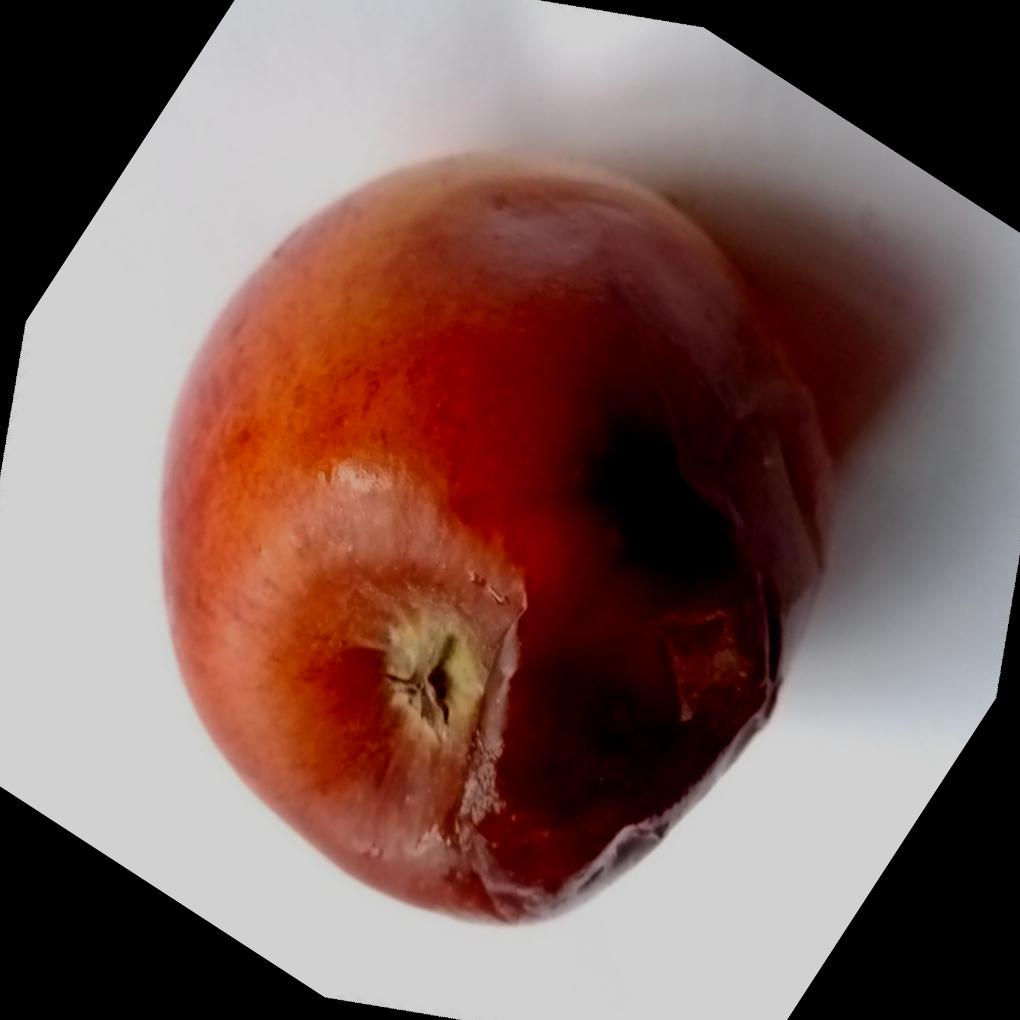FreshOrange: (156, 141, 840, 927)
